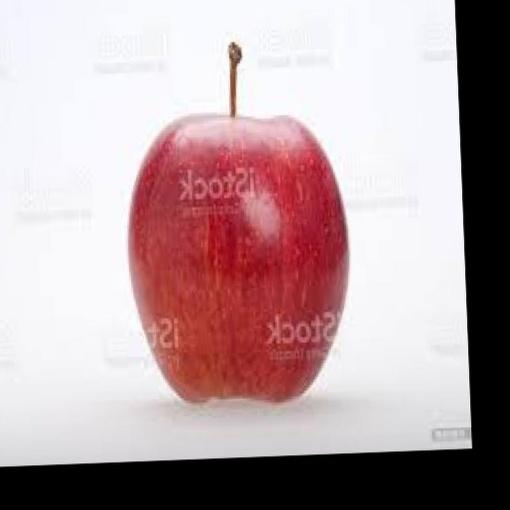red apple: (127, 106, 348, 411)
